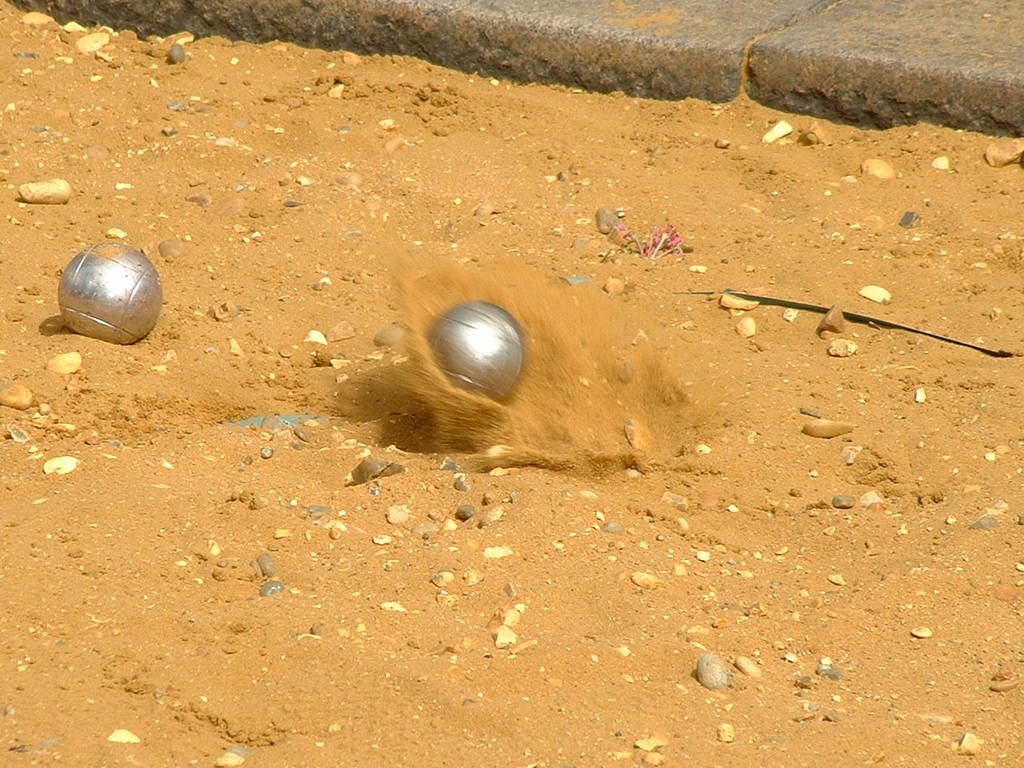Ball: (58, 240, 162, 344), (426, 302, 524, 408)
